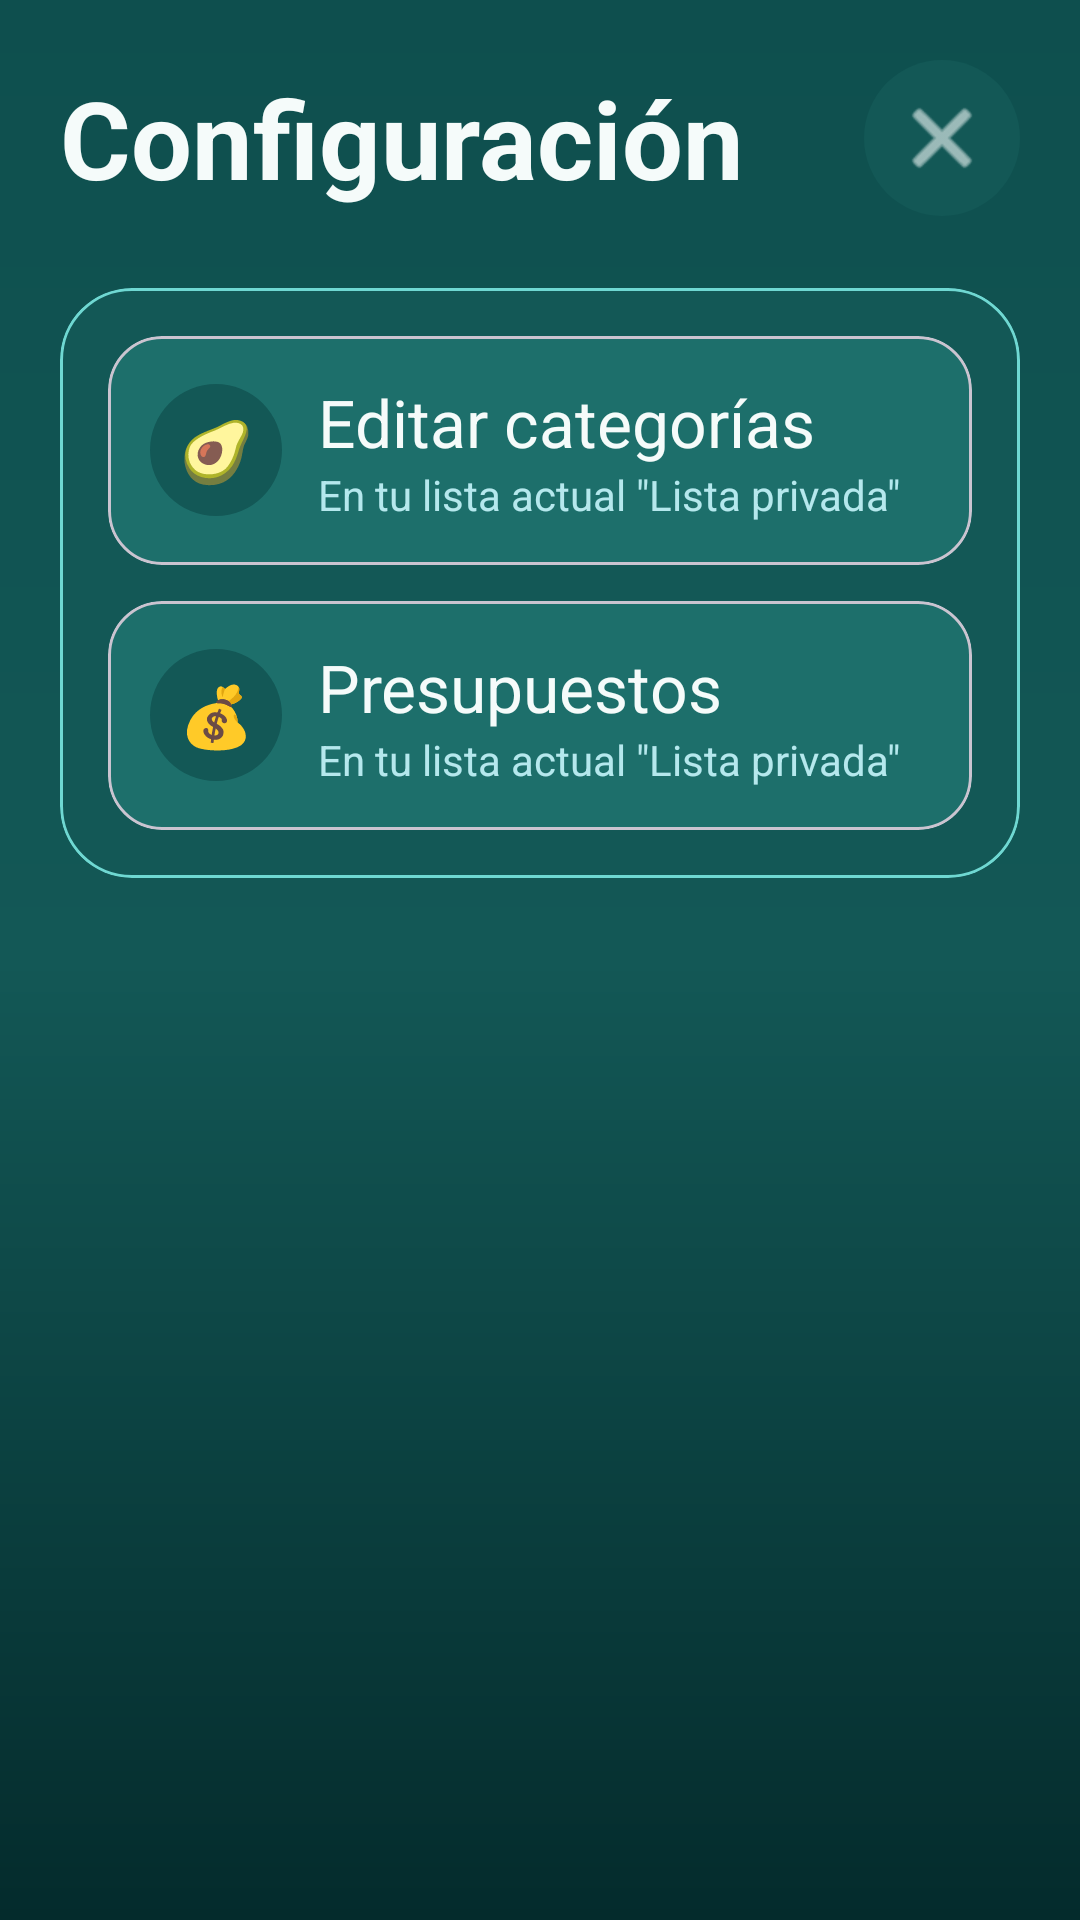

Where icons sit on this 1080 × 1920 app screen, as (x1, y1, x2, y2):
close clear cancel: (912, 108, 972, 168)
